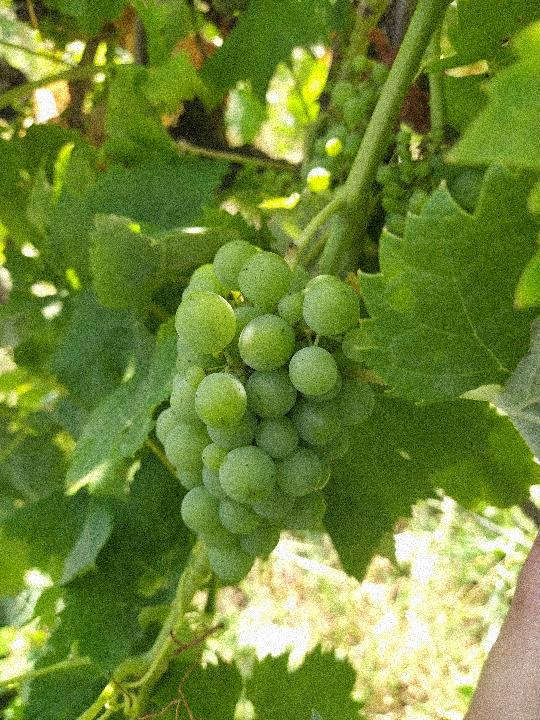grape: (151, 237, 378, 587)
